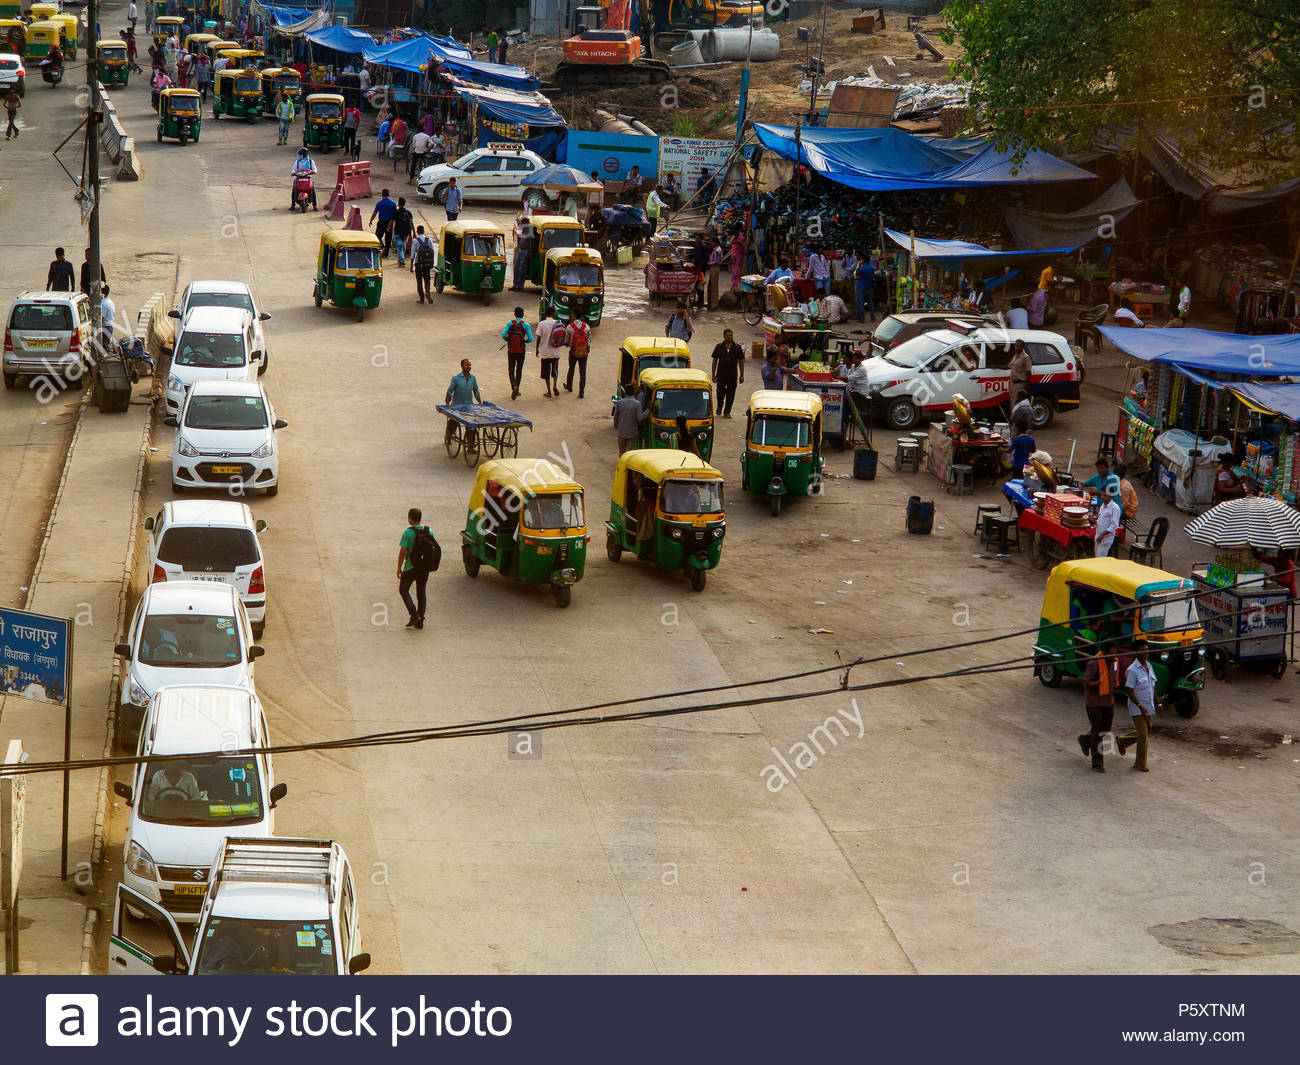car: (124, 688, 280, 922), (1042, 552, 1207, 739), (471, 450, 598, 617), (128, 585, 265, 740), (610, 449, 728, 595), (173, 379, 292, 497), (631, 363, 720, 478), (737, 395, 816, 502), (312, 224, 391, 328), (538, 252, 607, 349), (437, 220, 507, 304)
